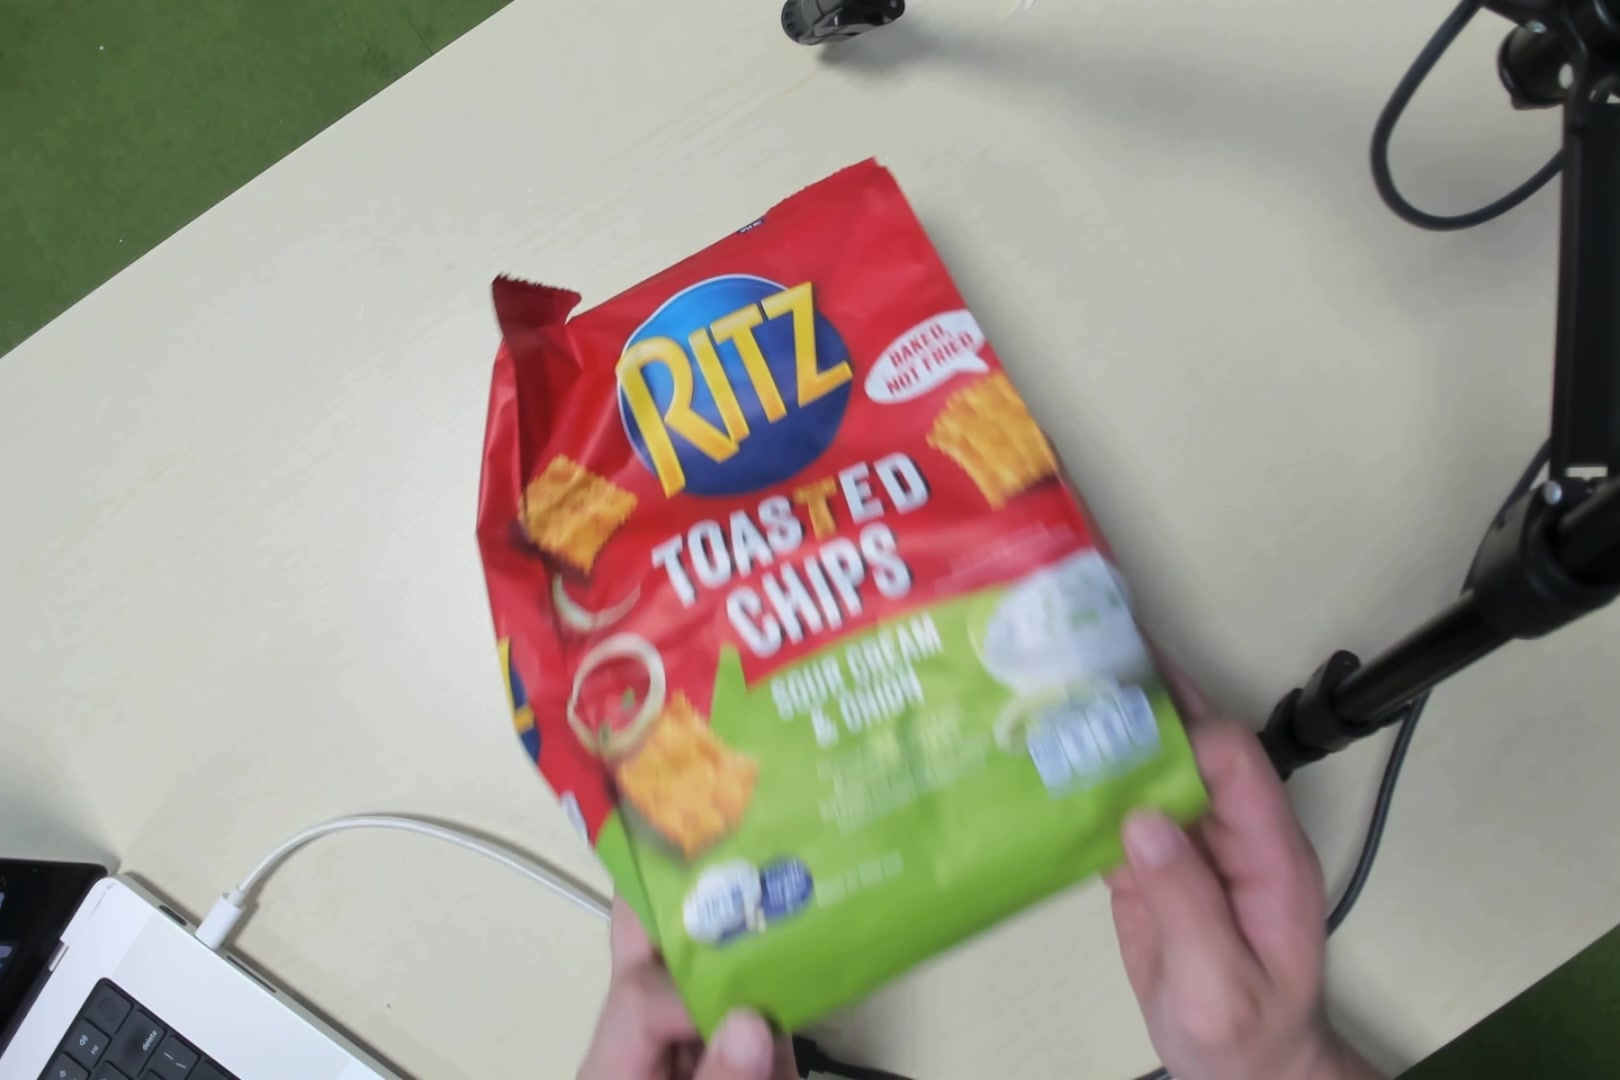BiscuitsCrackersCookies_200-299g_NonHalal_NonHealthy: (526, 215, 1120, 963)
